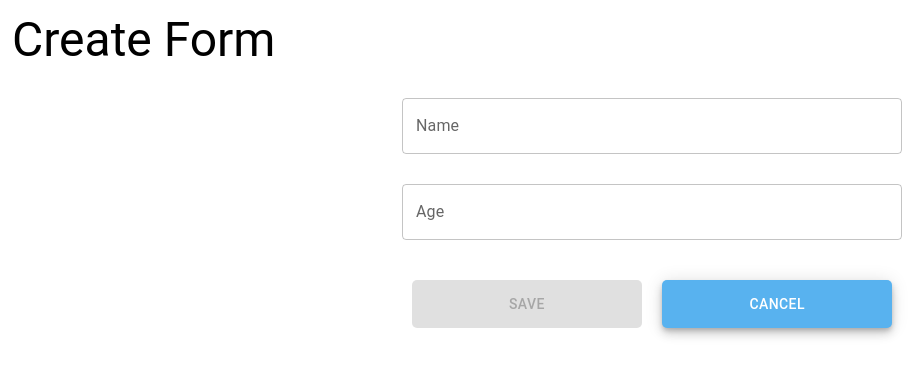
CreateForm Component › displays error message for invalid age input
The width and height of the screenshot is (919, 378).
Type "15" into the number field labelled "Age". click: (652, 212)
box: [402,184,902,240]
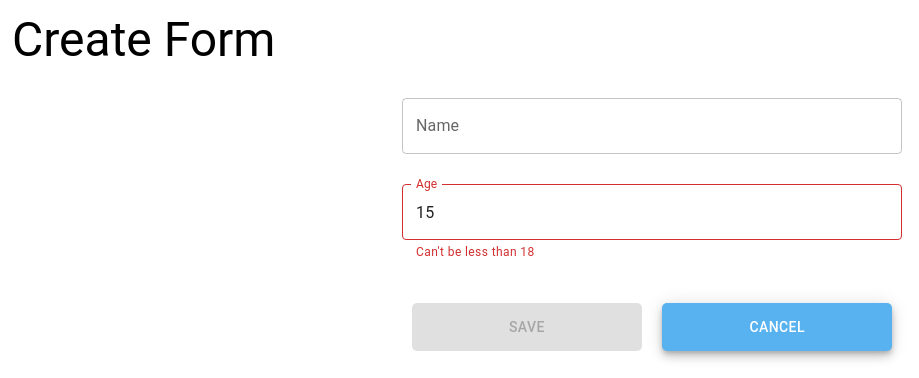
Now the text "Can't be less than 18" is shown, box [416,245,535,259]
